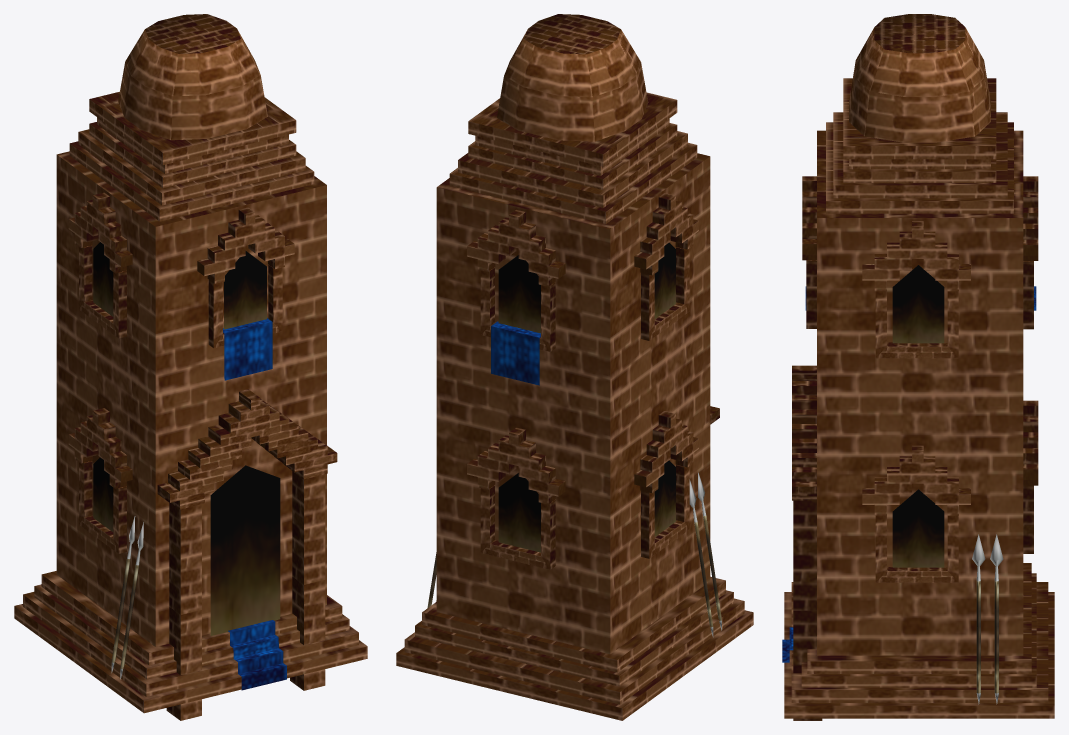
The model's file is stone_tower.dae.
3 renders of one model, left to right at view 1: azimuth 30°, elevation 25°; view 2: azimuth 150°, elevation 25°; view 3: azimuth 270°, elevation 25°, orthographic. The views are drawn at different scales.
Parts seen in each view (by area): view 1: stone_tower; view 2: stone_tower; view 3: stone_tower.
Part boxes in pixels (bbox=[...]): stone_tower: bbox=[14, 14, 367, 720]; stone_tower: bbox=[396, 14, 753, 720]; stone_tower: bbox=[782, 14, 1054, 720].
Size of the model in its own units: 7.73 by 7.83 by 20.65.
